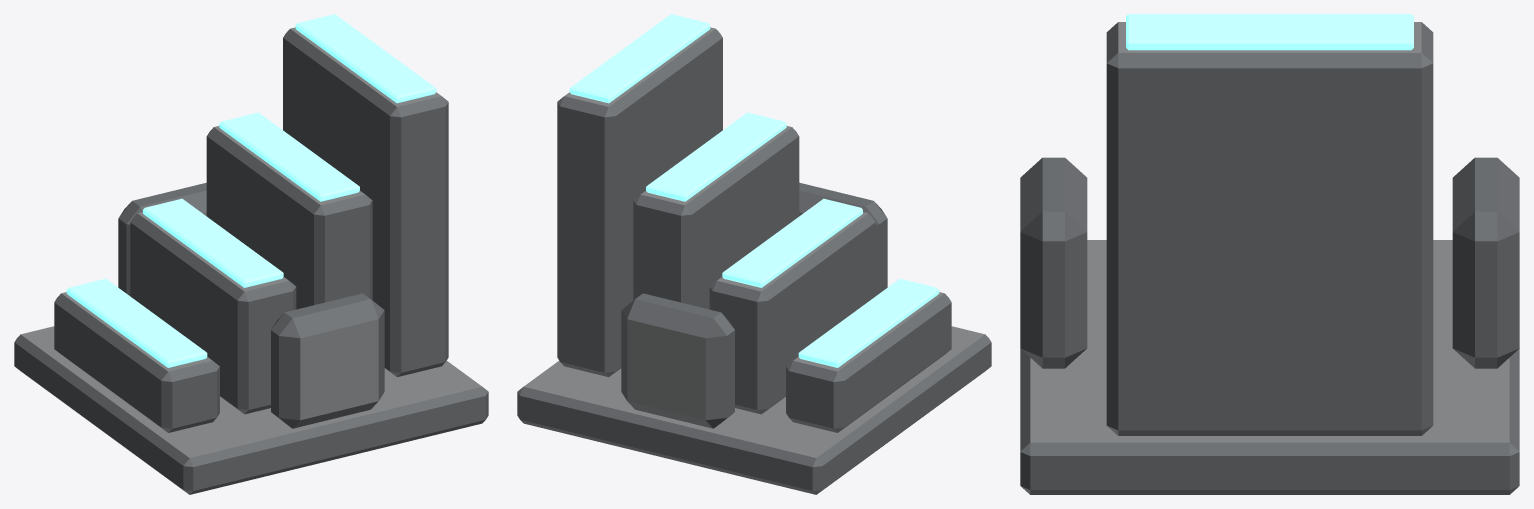
File: R4X_ModuleAmplifier_LOD1.glb
The picture shows the model from 3 angles, left to right: view 1: azimuth 30°, elevation 25°; view 2: azimuth 150°, elevation 25°; view 3: azimuth 270°, elevation 25°; orthographic projection. The views are drawn at different scales.
Visible parts, largest first — view 1: R4X_ModuleAmplifier_LOD1; view 2: R4X_ModuleAmplifier_LOD1; view 3: R4X_ModuleAmplifier_LOD1.
Part boxes in pixels (box(x1,y1,x2,y2)): R4X_ModuleAmplifier_LOD1: box(14, 14, 488, 494); R4X_ModuleAmplifier_LOD1: box(517, 14, 991, 494); R4X_ModuleAmplifier_LOD1: box(1020, 14, 1519, 494).
Bounding box in the file's own units: 0.52 × 0.512 × 0.52.
